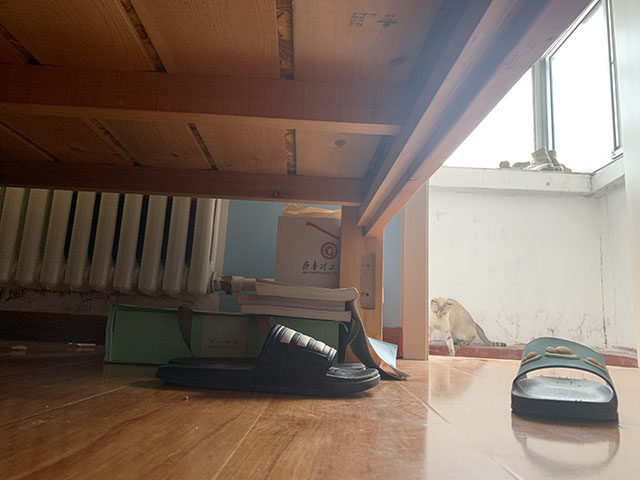bed: (1, 1, 596, 372)
slippers: (155, 323, 382, 395), (510, 335, 619, 425)
